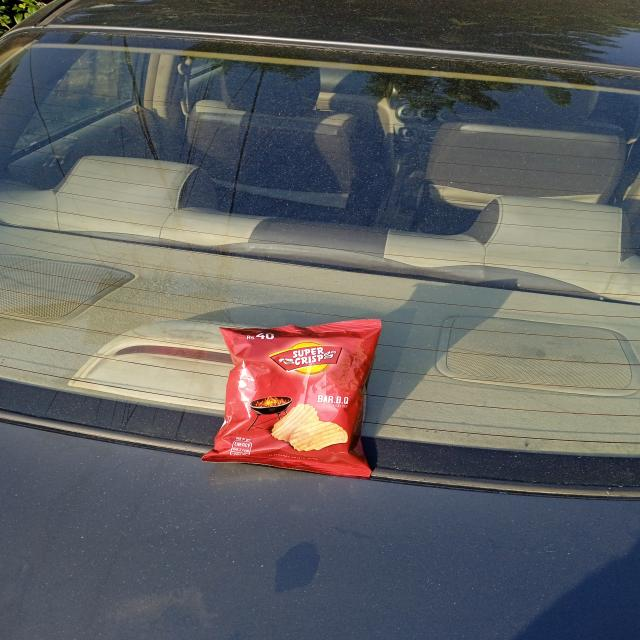Plastic: (205, 315, 388, 483)
